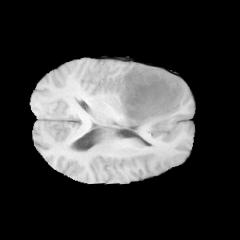glioma: (119, 63, 186, 131)
